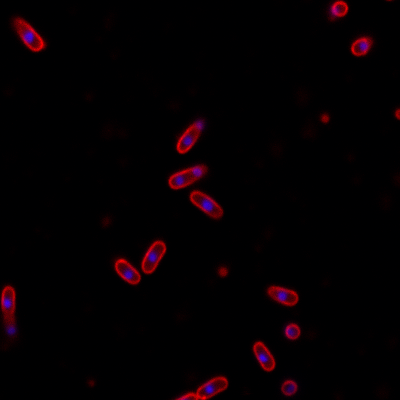CAM: (188, 188, 226, 222), (140, 238, 168, 274), (250, 339, 278, 374), (114, 256, 141, 286)
Oblique: (9, 15, 45, 55), (166, 161, 209, 192), (173, 118, 206, 155), (0, 284, 20, 343), (264, 284, 300, 306), (321, 0, 350, 24), (349, 35, 375, 59), (283, 320, 303, 340), (279, 379, 299, 396)
Vesicle: (214, 265, 230, 279), (98, 214, 112, 228), (319, 110, 331, 125), (86, 376, 97, 389)
